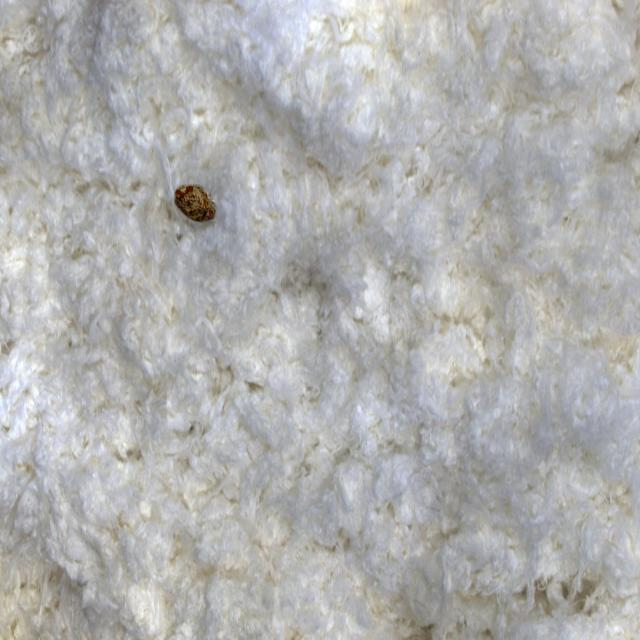dust: (161, 146, 242, 271)
